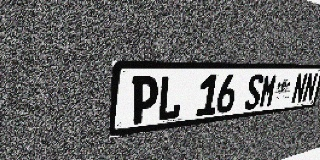1: (196, 75, 220, 116)
6: (215, 74, 238, 114)
L: (156, 75, 184, 122)
M: (258, 74, 278, 108)
N: (291, 73, 308, 104), (301, 73, 318, 103)
P: (130, 76, 159, 125)
S: (243, 74, 264, 110)
